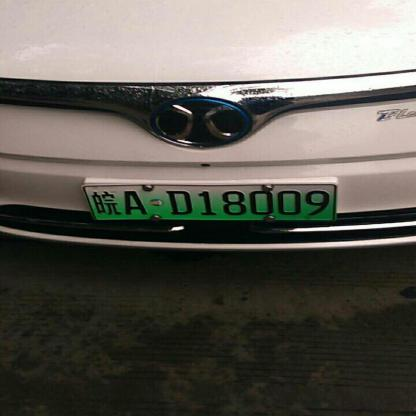lp: (81, 185, 337, 218)
